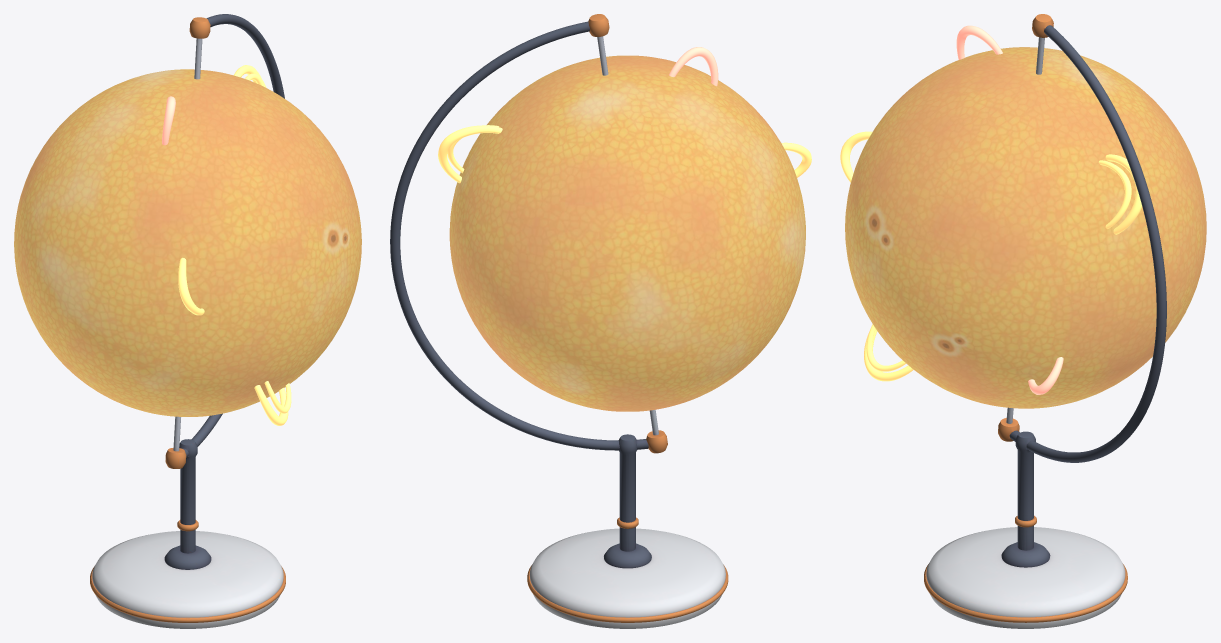
Rendered from sun.glb.
The picture shows the model from 3 angles, left to right: view 1: azimuth 30°, elevation 25°; view 2: azimuth 150°, elevation 25°; view 3: azimuth 270°, elevation 25°; orthographic projection. The views are drawn at different scales.
Parts seen in each view (by area): view 1: sun_sphere_glow, sun_body; view 2: sun_sphere_glow, sun_body; view 3: sun_sphere_glow, sun_body.
Part boxes in pixels (left/top/right/bottom): sun_sphere_glow: left=14, top=65, right=361, bottom=425; sun_body: left=90, top=14, right=285, bottom=628; sun_sphere_glow: left=438, top=47, right=811, bottom=411; sun_body: left=390, top=14, right=728, bottom=628; sun_sphere_glow: left=840, top=25, right=1206, bottom=408; sun_body: left=924, top=14, right=1166, bottom=628.
Bounding box in the file's own units: 0.4202 × 0.7147 × 0.405.
4 materials, 2 textured.
